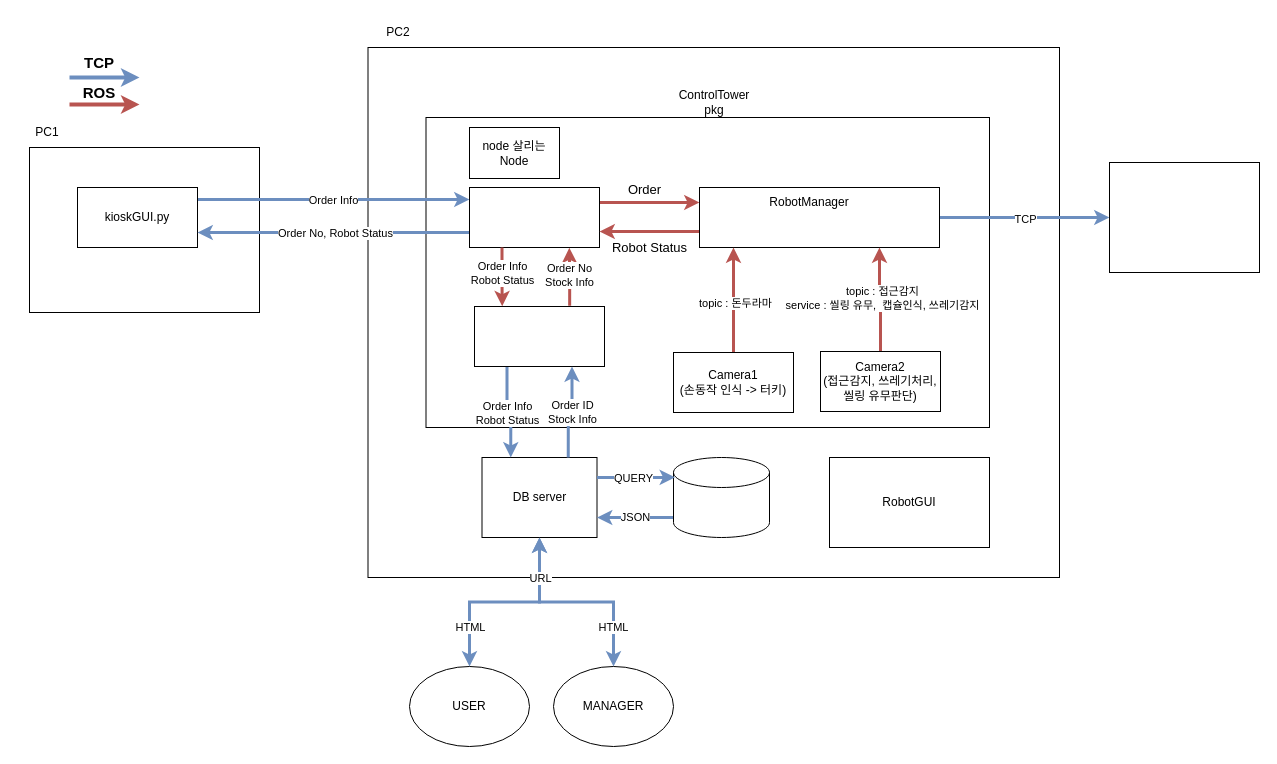
Image size: 1277x764. Some labels were removed from this diagram. The shapes that lost their labels are listed below. From the top down, each one's box as (x1, y1, x2, y2) in pixels, then its label:
(468, 186, 600, 248): KioskManager
(1108, 162, 1260, 272): aris
(474, 306, 604, 366): DBManager
(672, 456, 770, 538): Mysql DB
